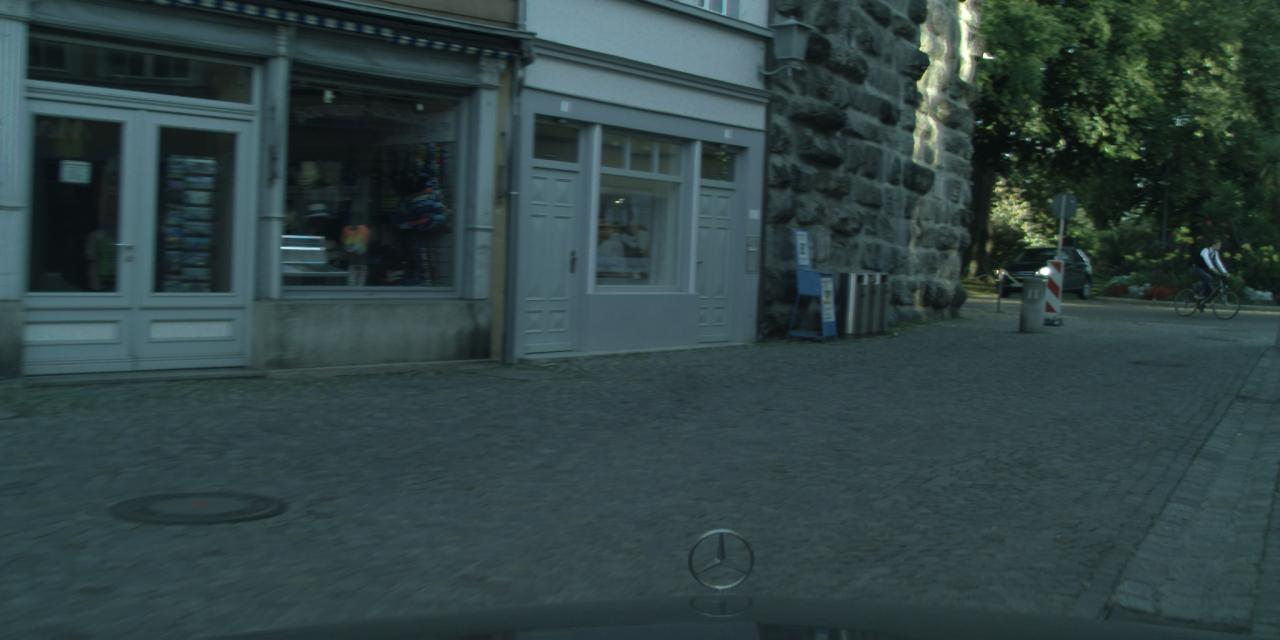ped: (1194, 238, 1220, 304)
